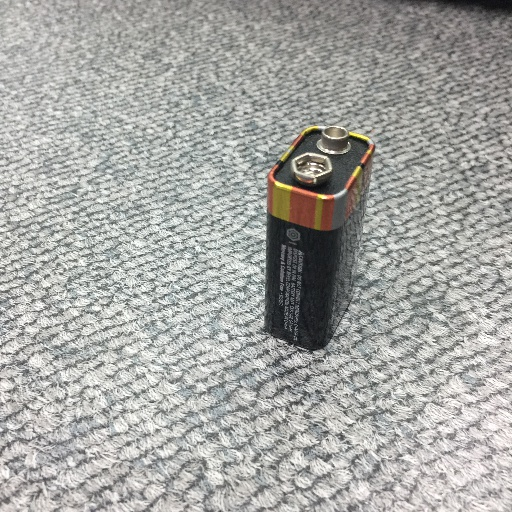Battery_3: (257, 117, 383, 367)
